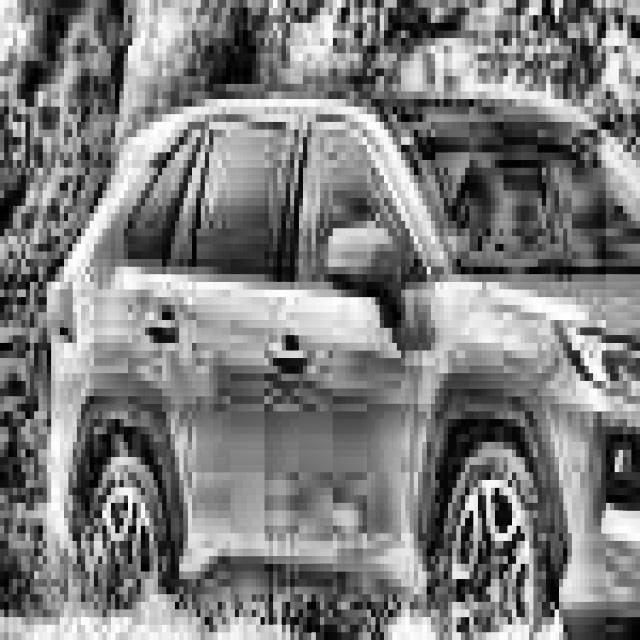light_vehicle: (42, 84, 640, 640)
